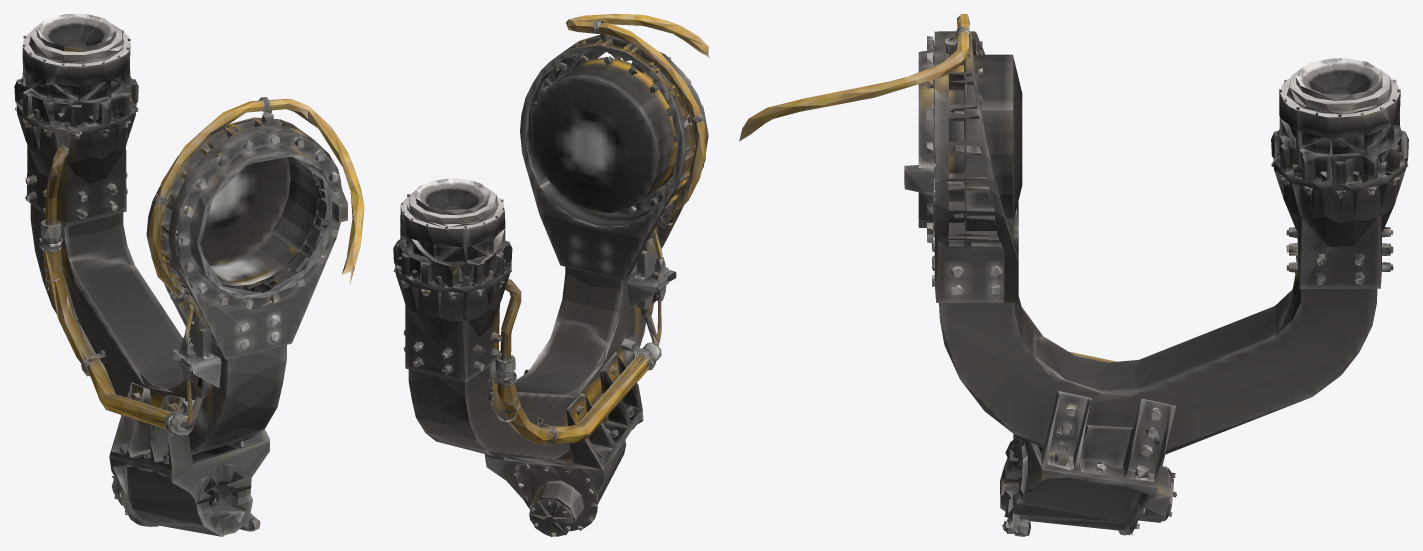
File: steer_lf.obj
3 views of the same model, side by side, from view 1: azimuth 30°, elevation 25°; view 2: azimuth 150°, elevation 25°; view 3: azimuth 270°, elevation 25° (orthographic). The views are drawn at different scales.
Bounding box in the file's own units: 0.2214 × 0.5578 × 0.6462.
Materials: 1 (1 with a texture image).
